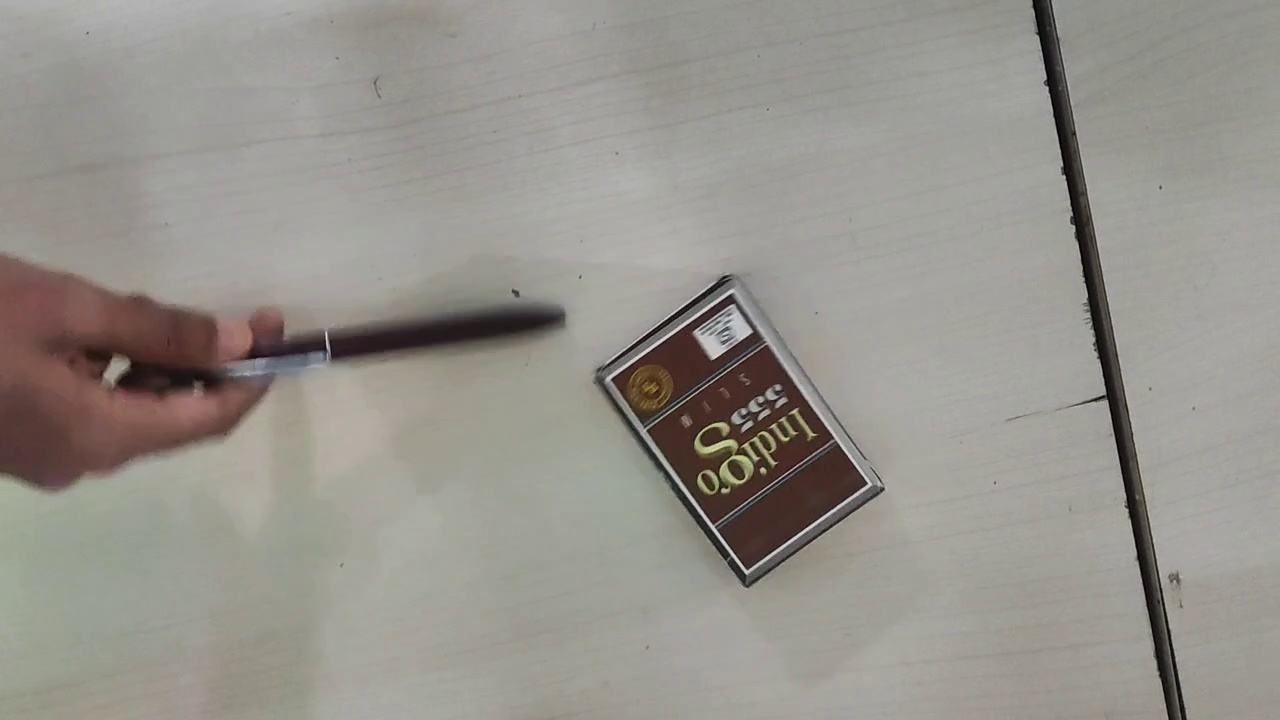BEX: (608, 290, 869, 571)
